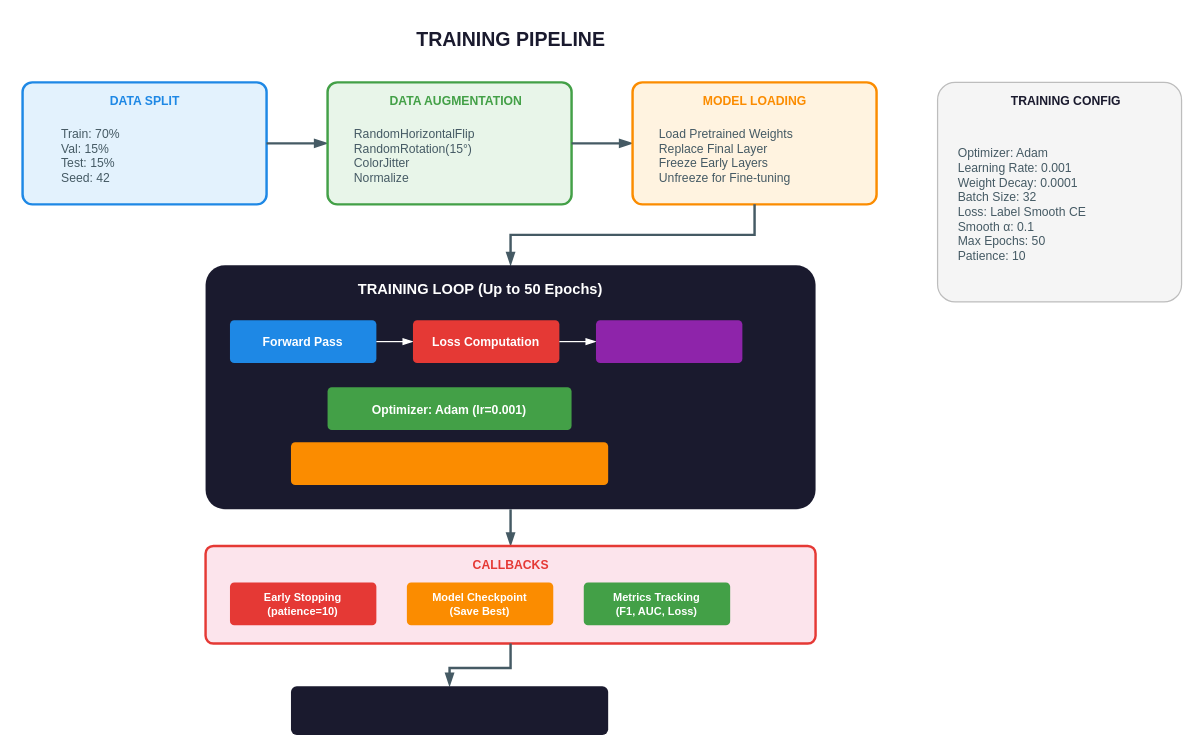
This 1203x755 diagram has some shape labels left out. The centre of each missing label's shape, as x and y in pixels:
"Backpropagation" goes at (x=668, y=341).
"Best Model Weights (Saved to Drive)" goes at (x=449, y=710).
"ReduceLROnPlateau (factor=0.5, patience=5)" goes at (x=449, y=463).
